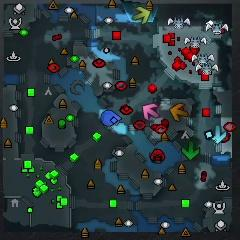p1: (101, 110, 121, 125)
x1: (143, 103, 159, 120)
x2: (133, 6, 150, 23)
x3: (210, 125, 226, 144)
x4: (182, 139, 200, 161)
x5: (170, 103, 188, 121)
